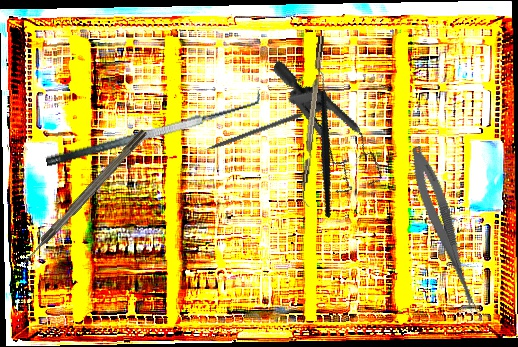Chopper: (269, 63, 375, 219), (297, 35, 333, 208)
Hook Surgical: (19, 128, 149, 267)
Micro Scissor: (403, 143, 489, 317)
Pusher: (190, 111, 303, 157)
Spatula Surgical: (40, 84, 265, 168)
Speculum: (239, 60, 408, 206)
